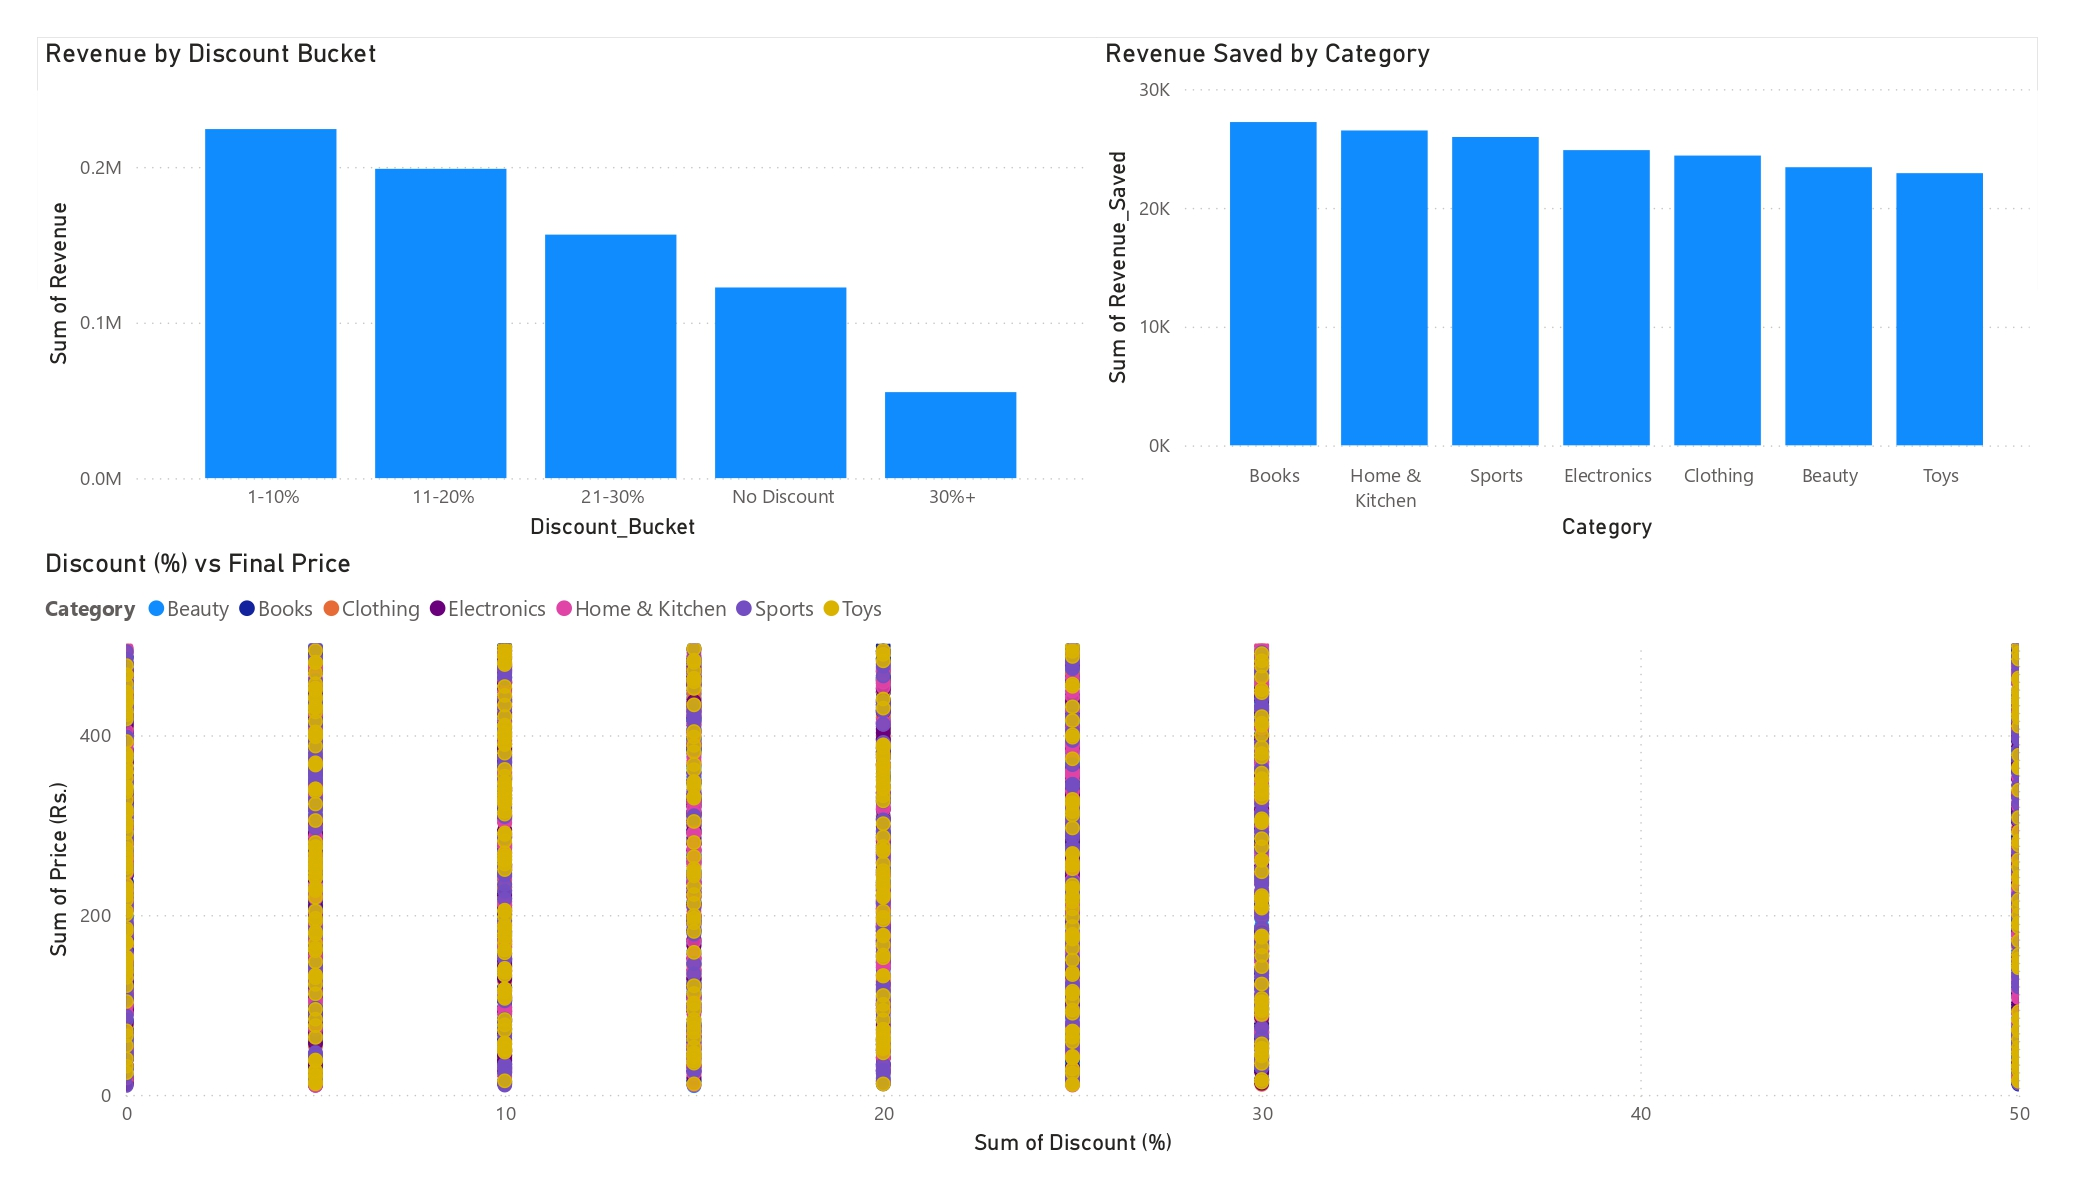

What the dashboard file says about the page in this screenshot:
{"tool":"powerbi","page":{"name":"Page 2","canvas":[1280,720],"ordinal":1},"visuals":[{"type":"clusteredColumnChart","title":"Revenue by Discount Bucket","fields":{"Y":["Sum(ecommerce_analysis_ready.Revenue)"],"Category":["ecommerce_analysis_ready.Discount_Bucket"]},"box":[0,0,677.7,326],"z":0},{"type":"columnChart","title":"Revenue Saved by Category","fields":{"Y":["Sum(ecommerce_analysis_ready.Revenue_Saved)"],"Category":["ecommerce_analysis_ready.Category"]},"box":[677.7,0,602.4,326],"z":1000},{"type":"scatterChart","title":"Discount (%) vs Final Price","fields":{"X":["Sum(ecommerce_analysis_ready.Discount (%))"],"Y":["Sum(ecommerce_analysis_ready.Price (Rs.))"],"Series":["ecommerce_analysis_ready.Category"],"Category":["ecommerce_analysis_ready.Product_ID"]},"box":[0,326,1280.2,394.2],"z":2000}]}

Visuals, with their boxes on the page's 1280x720 design canvas (x1, y1, x2, y2). These are canvas units, not pixel positions in the 2075x1200 screenshot, which may show the page scaled, cropped or inside an application window:
"Revenue by Discount Bucket" clusteredColumnChart: <region>0, 0, 678, 326</region>
"Revenue Saved by Category" columnChart: <region>678, 0, 1280, 326</region>
"Discount (%) vs Final Price" scatterChart: <region>0, 326, 1280, 720</region>
